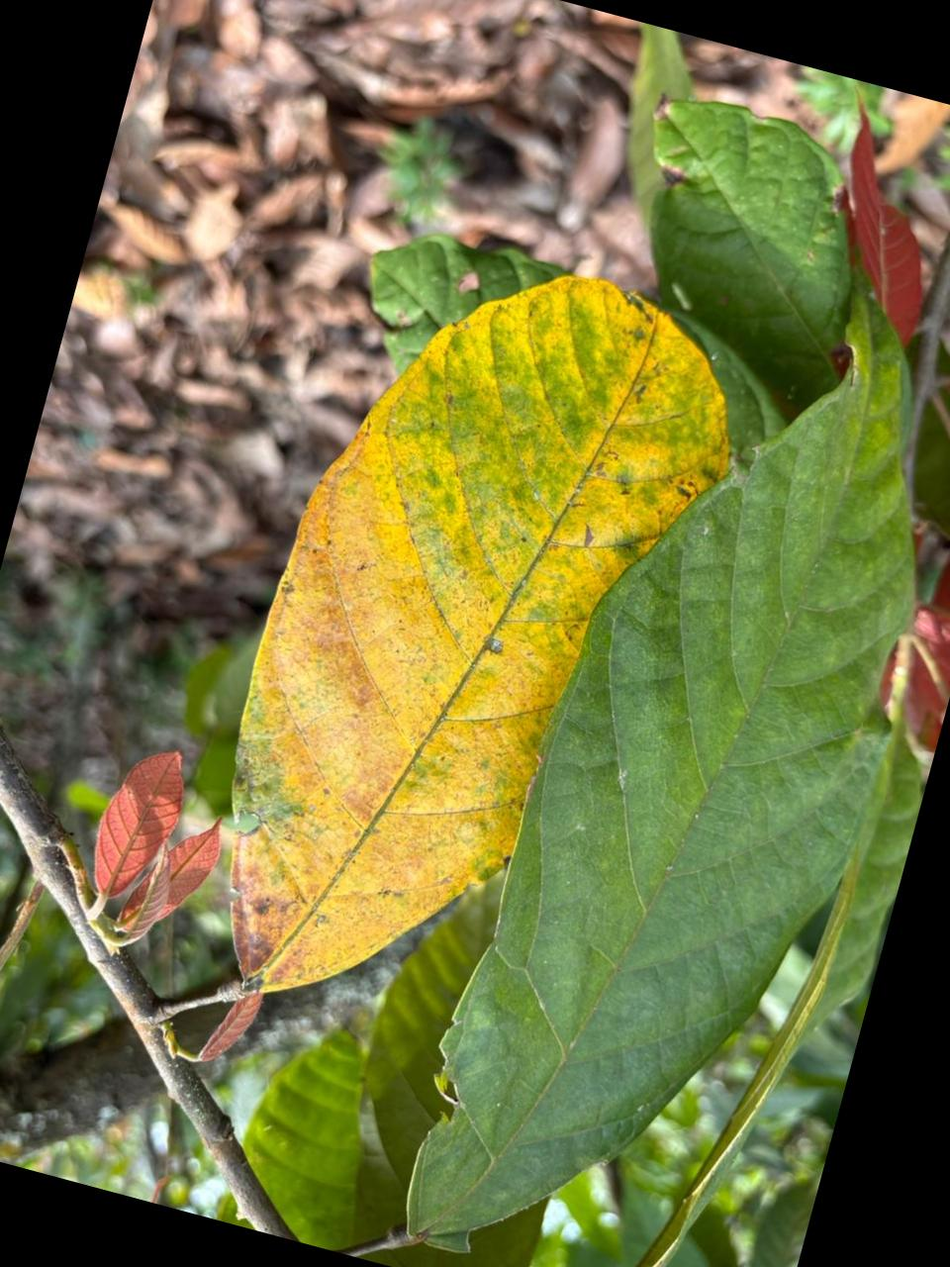Fosforo: (232, 278, 728, 991)
